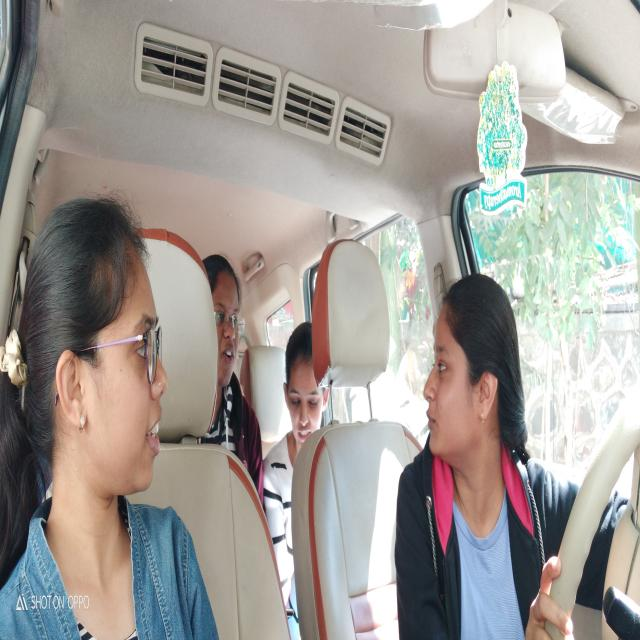LeftRight: (56, 202, 165, 491), (424, 277, 507, 455)
person: (280, 330, 328, 437), (214, 254, 241, 380)
talking: (147, 418, 164, 456), (424, 406, 438, 436)
